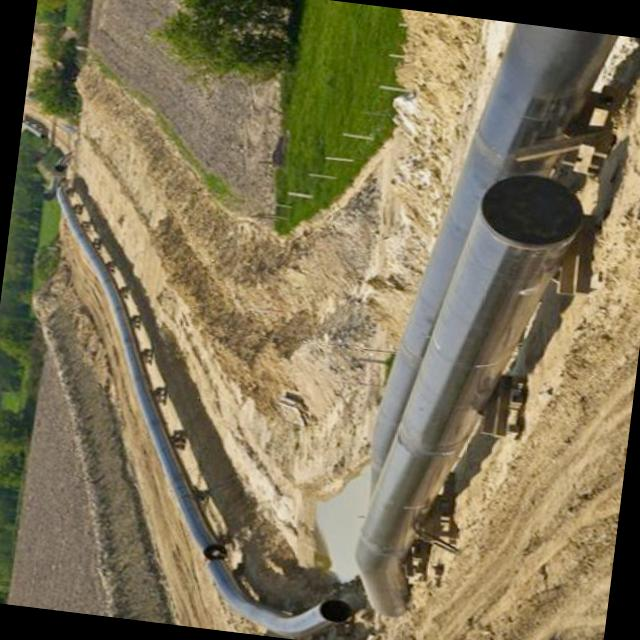gas: (57, 187, 351, 632), (372, 22, 617, 474), (356, 174, 582, 615)
